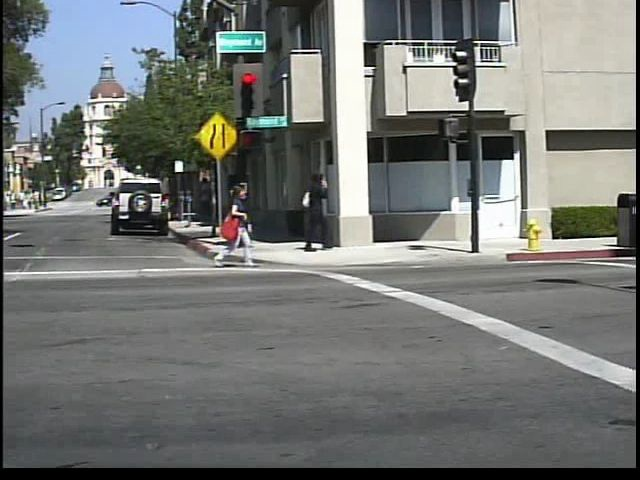person: (218, 177, 269, 269), (302, 168, 343, 254)
